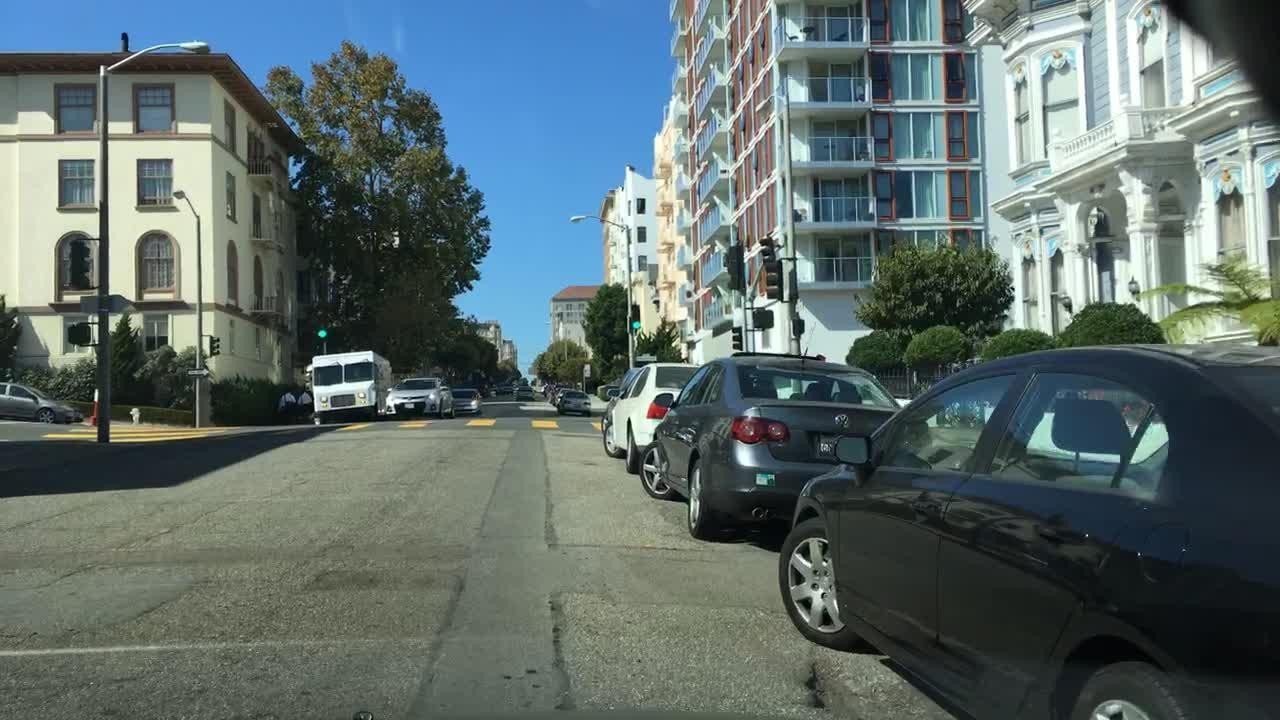Volkswagen: (834, 410, 850, 430)
